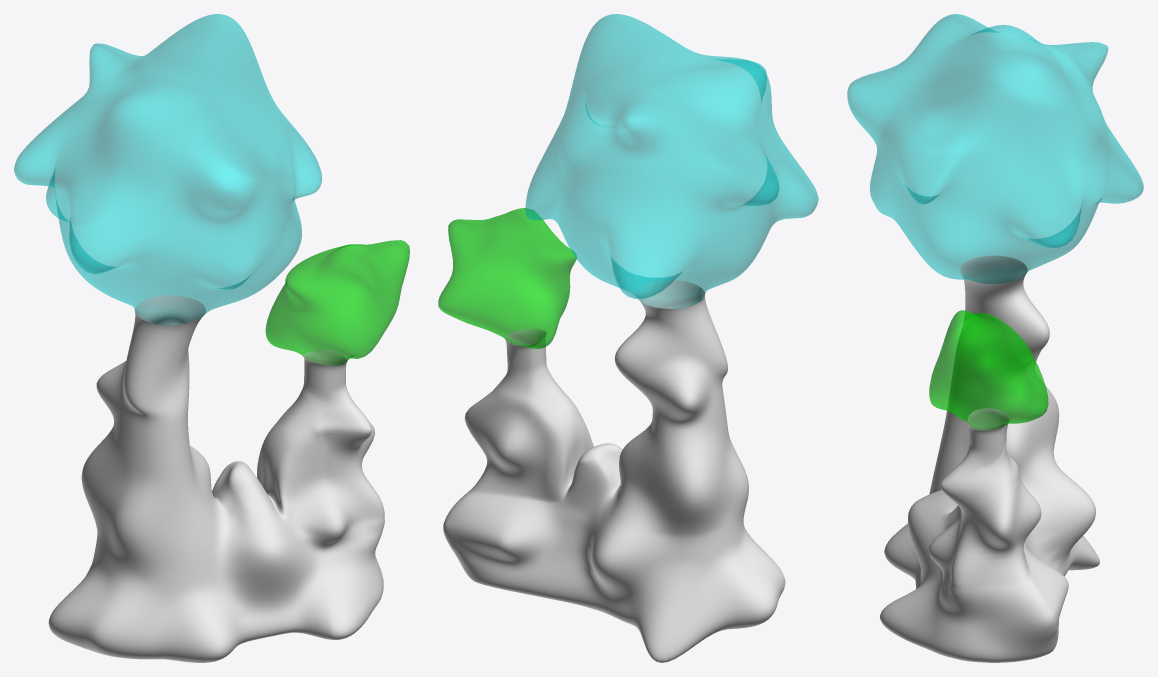
The model's file is Light_Plant_Grouping_01.fbx.
3 views of the same model, side by side, from view 1: azimuth 30°, elevation 25°; view 2: azimuth 150°, elevation 25°; view 3: azimuth 270°, elevation 25° (orthographic). The views are drawn at different scales.
Parts seen in each view (by area): view 1: pSphere3; view 2: pSphere3; view 3: pSphere3.
Part boxes in pixels (left/top/right/bottom): pSphere3: left=14, top=14, right=409, bottom=662; pSphere3: left=438, top=14, right=818, bottom=662; pSphere3: left=847, top=14, right=1143, bottom=662.
Size of the model in its own units: 0.6409 by 0.4735 by 1.03.
